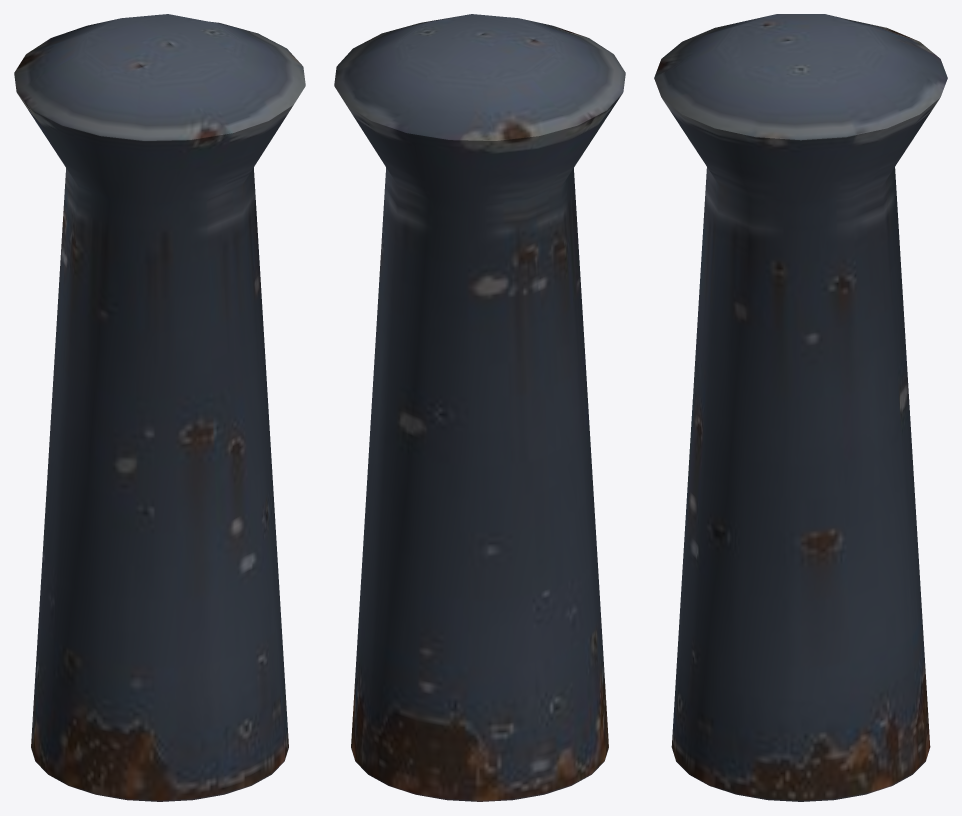
The model's file is metal-bollard.glb.
3 views of the same model, side by side, from view 1: azimuth 30°, elevation 25°; view 2: azimuth 150°, elevation 25°; view 3: azimuth 270°, elevation 25° (orthographic).
Parts seen in each view (by area): view 1: Metal-bollardBody; view 2: Metal-bollardBody; view 3: Metal-bollardBody.
Part boxes in pixels (bbox=[...]): Metal-bollardBody: bbox=[14, 14, 305, 801]; Metal-bollardBody: bbox=[334, 14, 625, 801]; Metal-bollardBody: bbox=[654, 14, 947, 801].
Bounding box in the file's own units: 0.3 × 0.8 × 0.3.
1 material, 1 textured.
